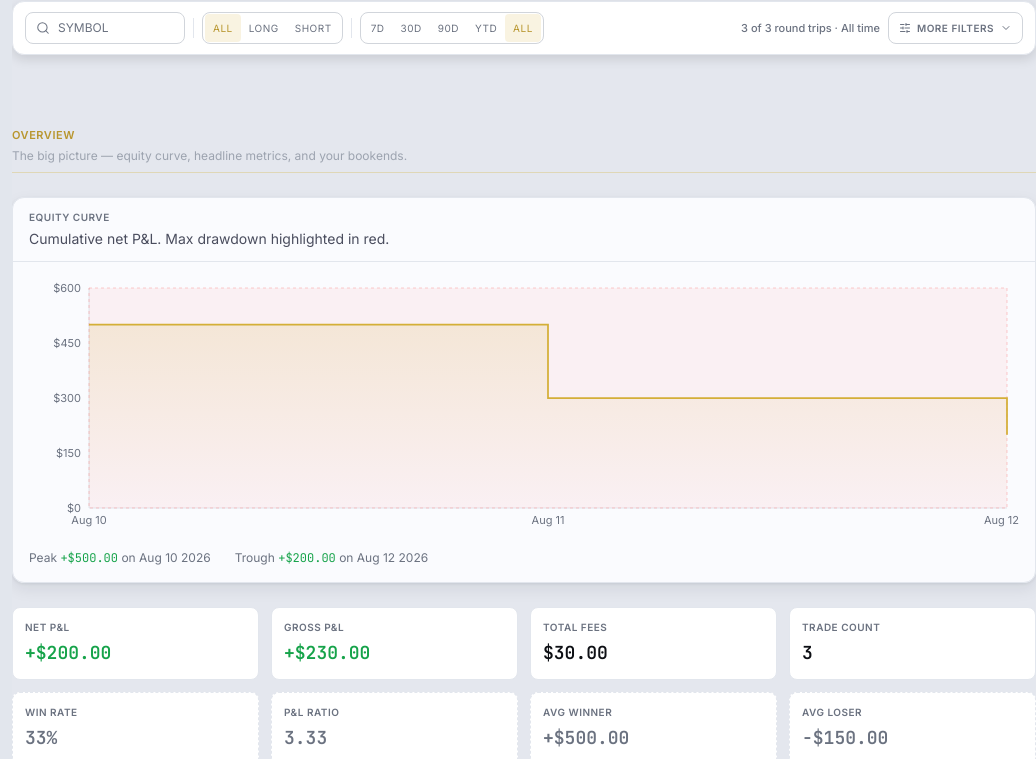
Test: the filter control governs the tab, so it sits above the tab › T4 exactly ONE filter control renders on the tab
Expected: the number of elements with test id "overview-toolbar" is 1, [12, 1, 1035, 55]
Expected: the number of elements with test id "overview-scope" is 1, [741, 20, 880, 36]
Note: Reset is conditional now, so activate something before counting it.
Type "AAAA" into the field with placeholder "Symbol" at point(116, 28), box [58, 20, 174, 36]
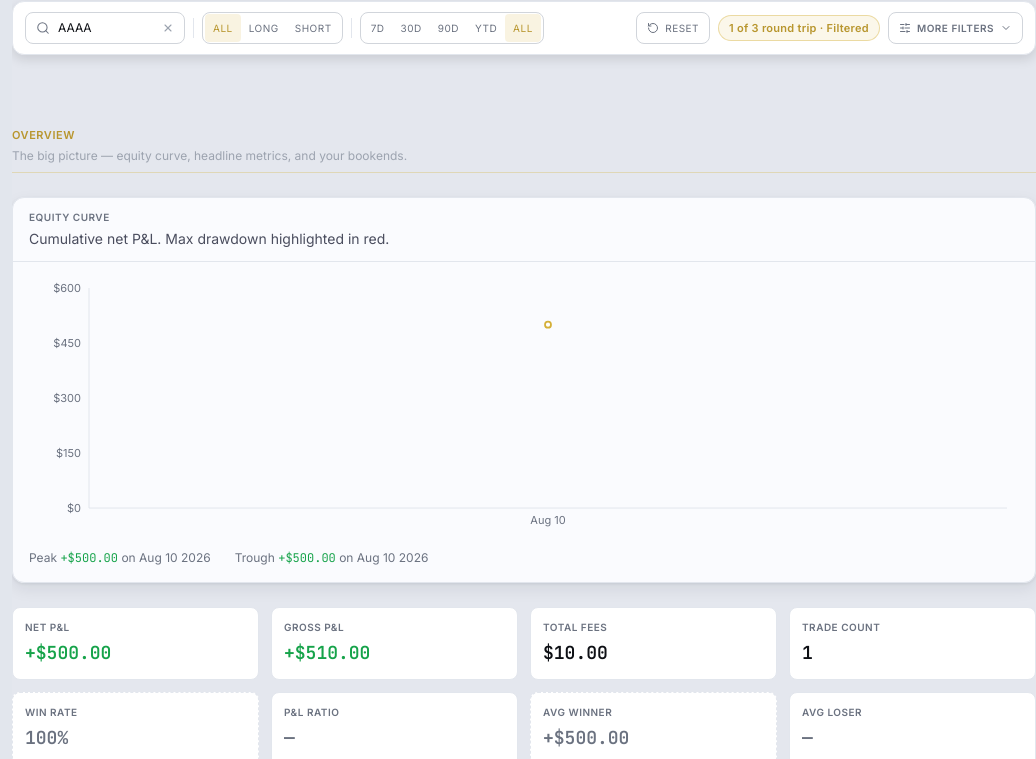
Now the number of buttons titled "Reset all filters" is 1, box [636, 12, 710, 44]
